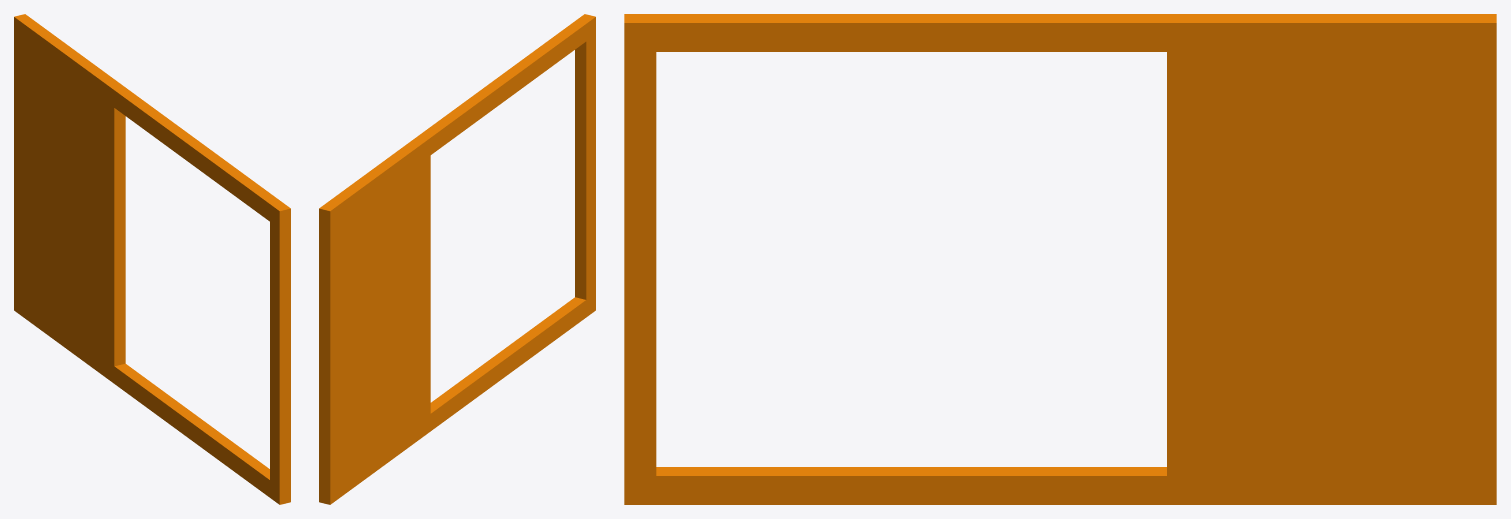
The model's file is nil_link_mesh.dae.
3 views of the same model, side by side, from view 1: azimuth 30°, elevation 25°; view 2: azimuth 150°, elevation 25°; view 3: azimuth 270°, elevation 25° (orthographic). The views are drawn at different scales.
Parts seen in each view (by area): view 1: nil_link; view 2: nil_link; view 3: nil_link.
Part boxes in pixels (<box>): nil_link: <box>14,14,290,504</box>; nil_link: <box>319,14,595,504</box>; nil_link: <box>624,14,1496,504</box>.
Bounding box in the file's own units: 0.05 × 1.25 × 2.05.
